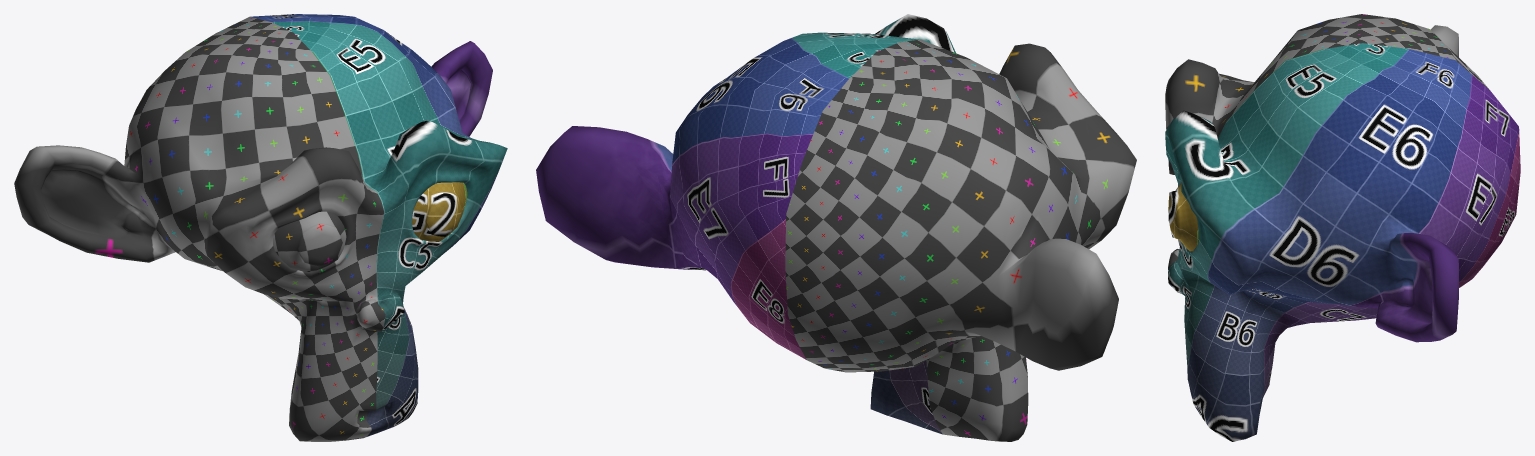
The model's file is materialtest.dae.
3 renders of one model, left to right at view 1: azimuth 30°, elevation 25°; view 2: azimuth 150°, elevation 25°; view 3: azimuth 270°, elevation 25°, orthographic. The views are drawn at different scales.
Parts seen in each view (by area): view 1: Monkey; view 2: Monkey; view 3: Monkey.
Boxes of the visible parts, x1=… form: Monkey: x1=14, y1=14, x2=507, y2=441; Monkey: x1=536, y1=14, x2=1136, y2=441; Monkey: x1=1165, y1=14, x2=1520, y2=441.
Bounding box in the file's own units: 2.7 × 1.66 × 1.95.
2 materials, 2 textured.
